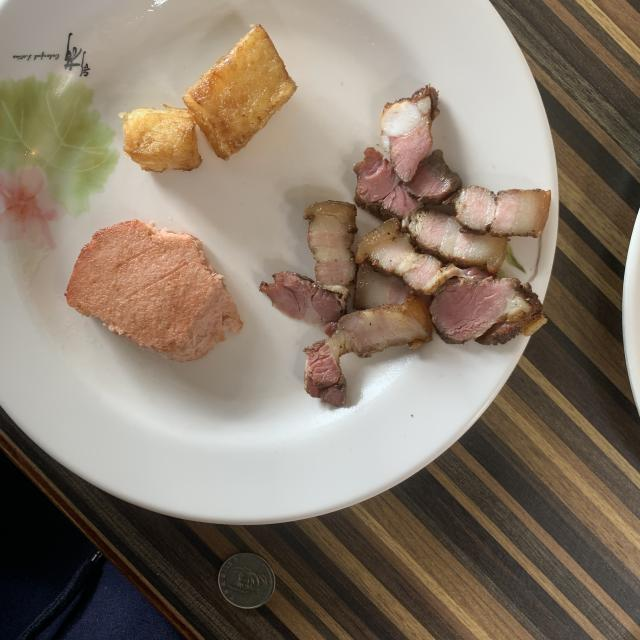Spam: (65, 220, 242, 361)
coin: (219, 552, 275, 609)
fried potato: (119, 25, 296, 172)
grilled pork: (261, 85, 550, 406)
